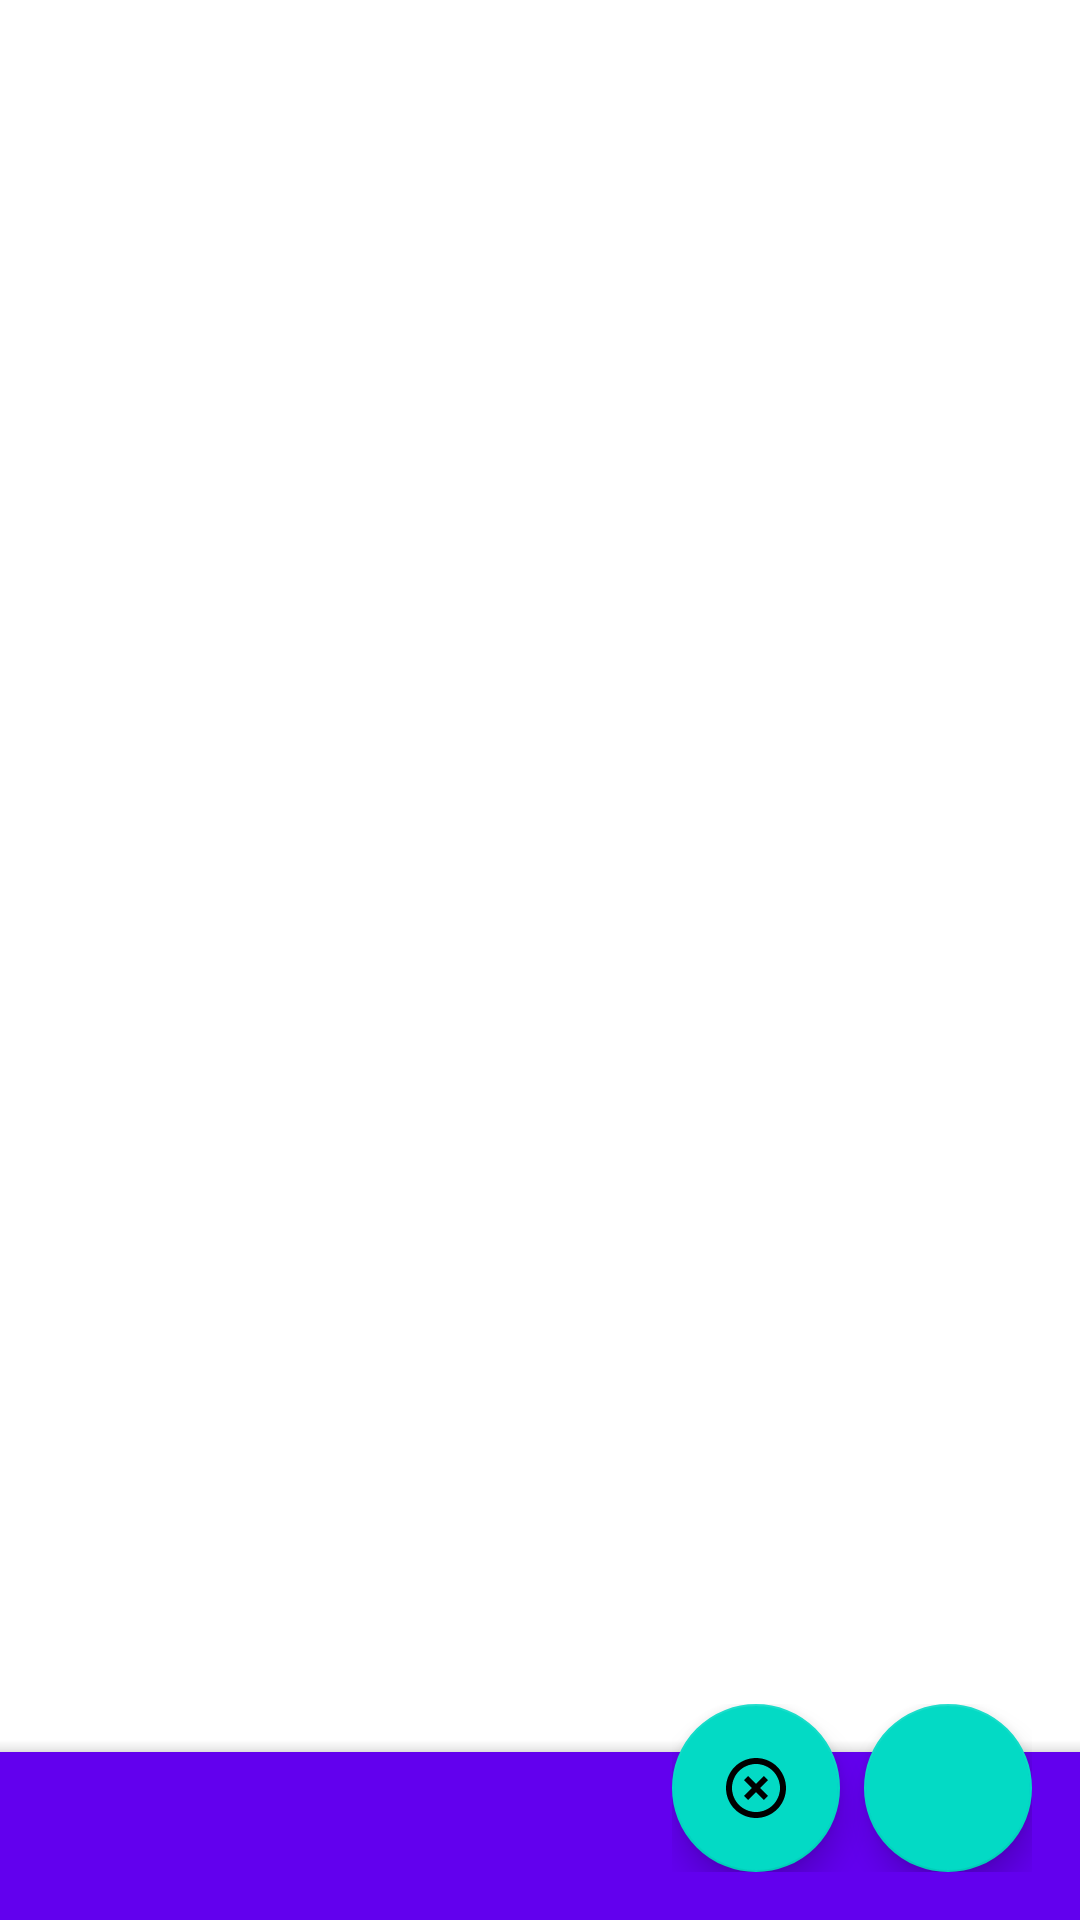

Where icons sit on this 1080px×1920px app screen, as [left=x1, top=y1, right=x2, bottom=y2]:
cancellation: [left=672, top=1704, right=840, bottom=1872]
